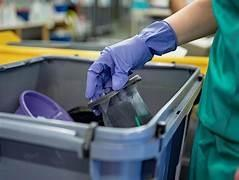Glove: (86, 21, 176, 99)
